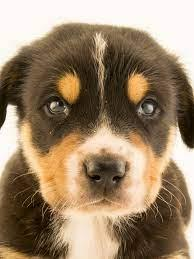Dog: (1, 20, 194, 218)
